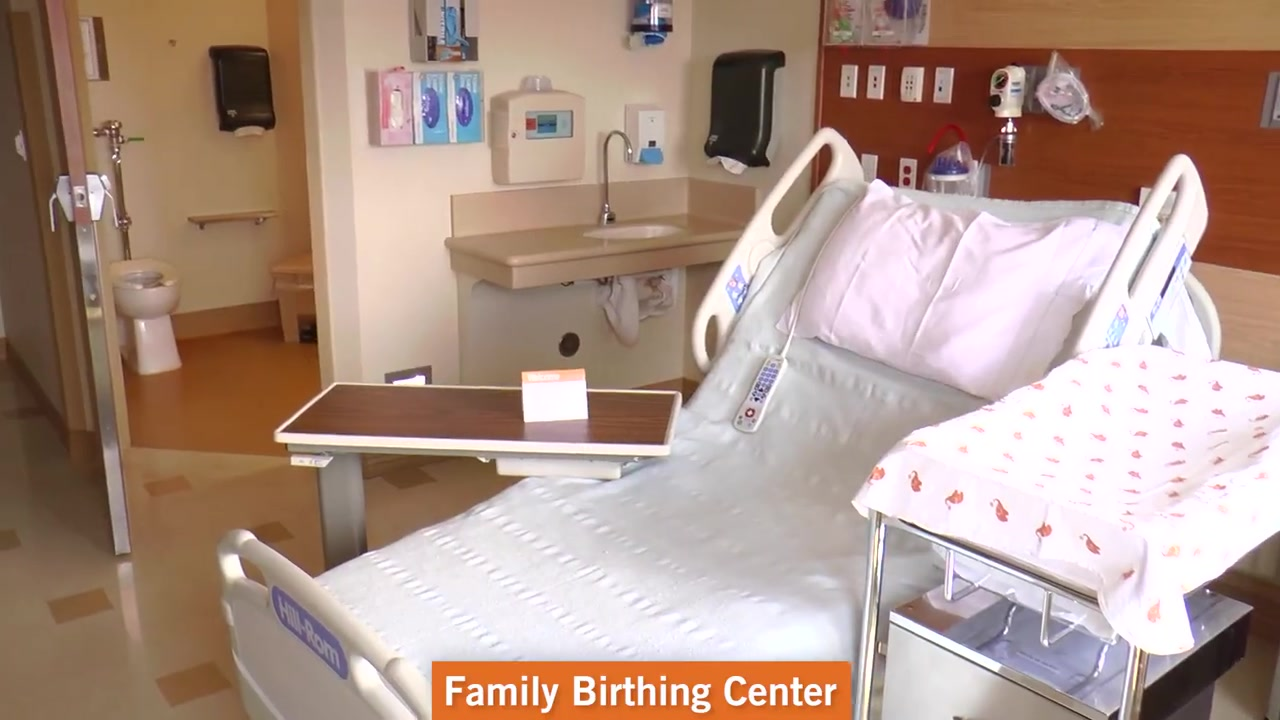bedrail: (690, 127, 865, 376), (1071, 153, 1209, 359)
countertop: (444, 214, 744, 291)
dispenser: (701, 48, 787, 176), (364, 70, 487, 148), (208, 44, 277, 138), (413, 1, 480, 62), (626, 104, 667, 166)
door_handle: (84, 171, 120, 230), (47, 173, 75, 233)
faucet: (596, 129, 634, 225)
foot_board: (215, 527, 433, 720)
hospital_bed: (213, 190, 1219, 719)
medical_waste_container: (492, 88, 585, 184)
overbed_table: (274, 381, 682, 572)
restroom_assist_bar: (187, 209, 280, 231)
sink: (580, 220, 689, 242)
toilet: (108, 258, 183, 377)
toilet_handle: (118, 134, 145, 144)
utility_cart: (858, 346, 1280, 720)
waste_bin: (270, 251, 320, 344)
